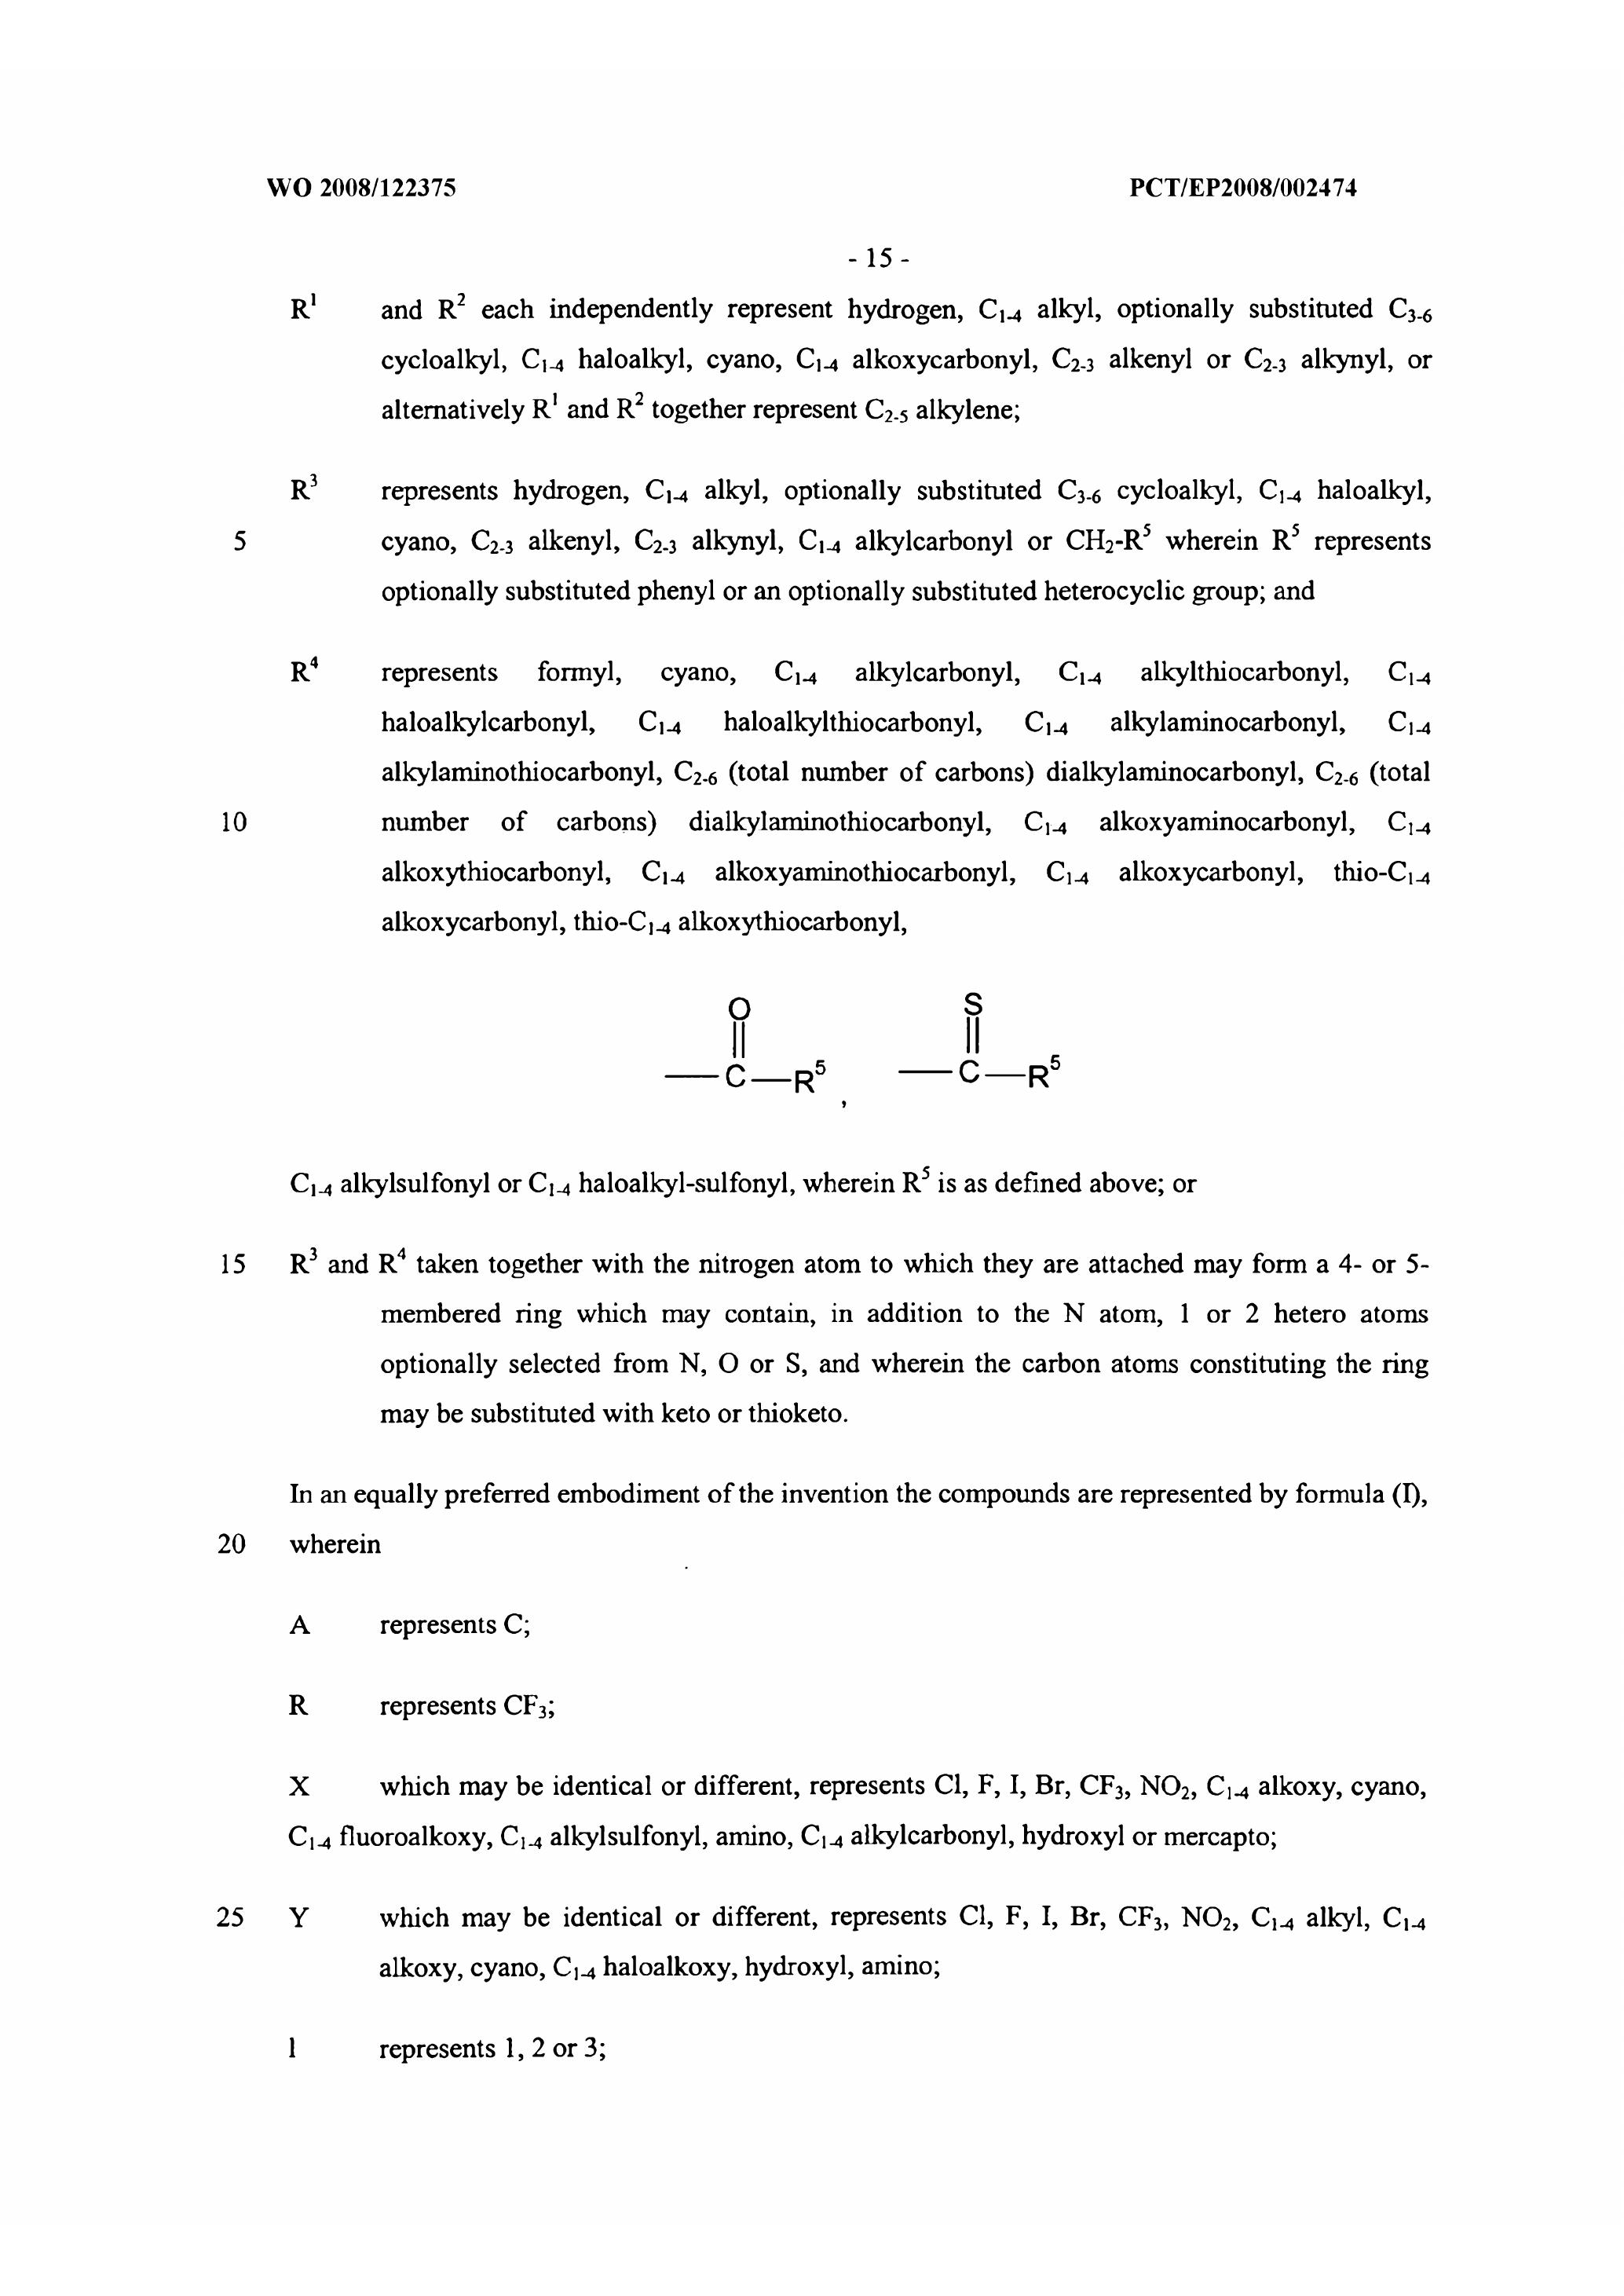substitutes: (271, 614, 1457, 1211)
